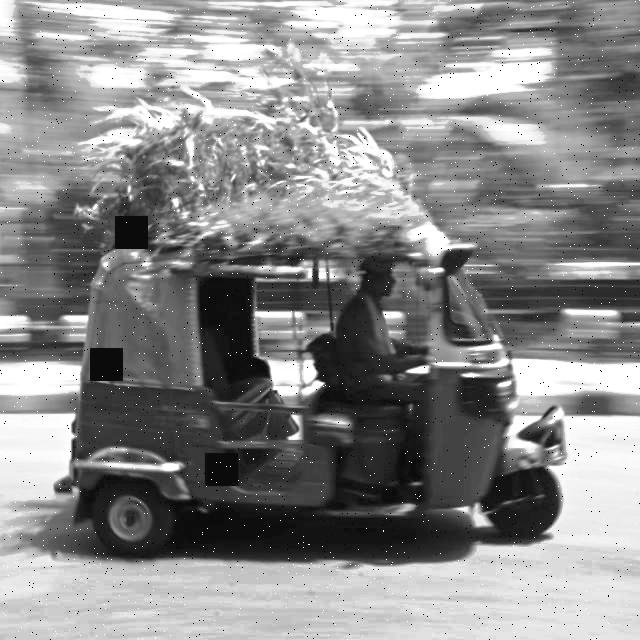Auto-Rickshaw: (47, 179, 601, 564)
